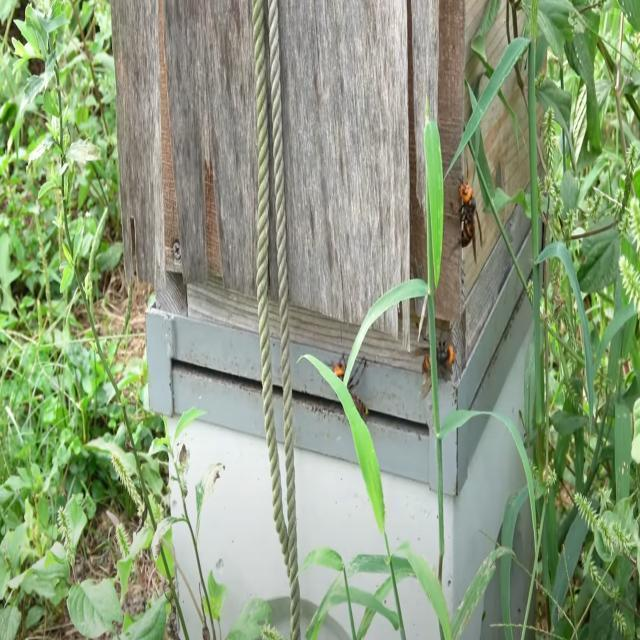Wasp: (450, 167, 484, 254)
